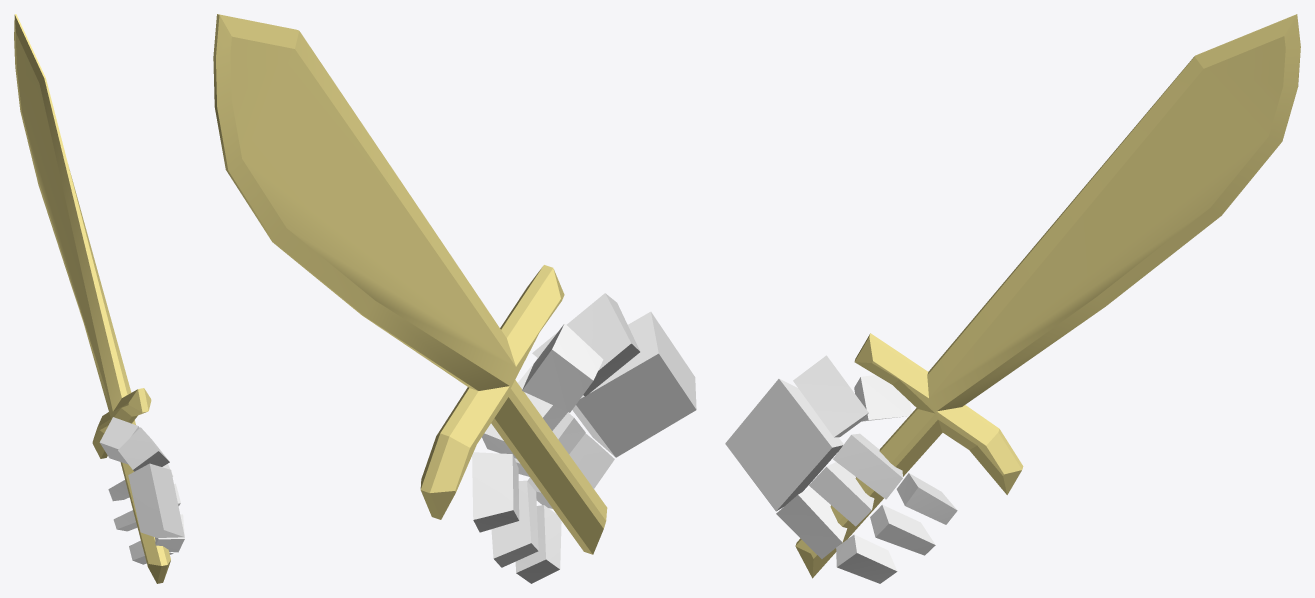
File: pirate_arm.obj
The picture shows the model from 3 angles, left to right: view 1: azimuth 30°, elevation 25°; view 2: azimuth 150°, elevation 25°; view 3: azimuth 270°, elevation 25°; orthographic projection. The views are drawn at different scales.
Parts seen in each view (by area): view 1: Line03, Box01; view 2: Line03, Box01; view 3: Line03, Box01.
Boxes of the visible parts, x1,y1,x2,y2 form: Line03: [14, 14, 170, 583]; Box01: [99, 417, 184, 564]; Line03: [213, 14, 607, 554]; Box01: [472, 293, 696, 583]; Line03: [795, 14, 1300, 578]; Box01: [725, 355, 957, 583].
Bounding box in the file's own units: 3.01 × 16.18 × 14.4.
